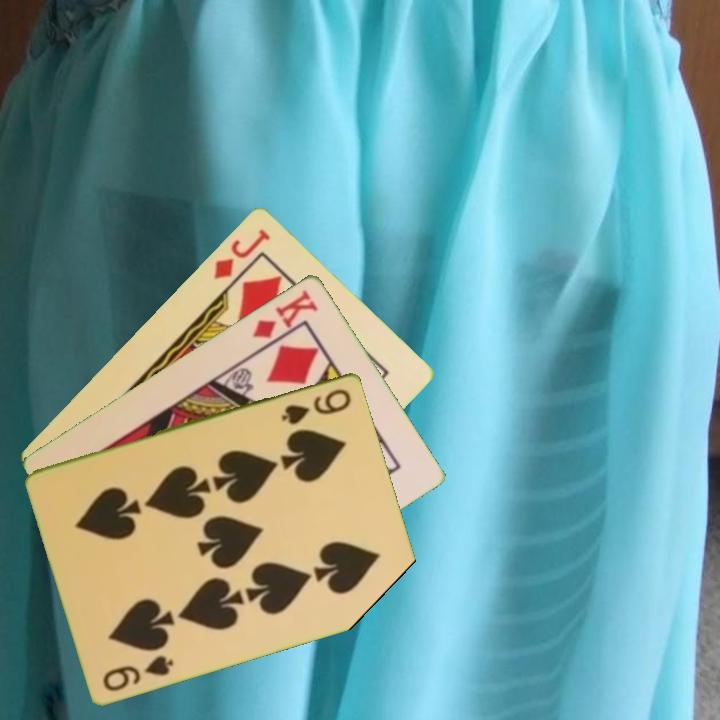9s: (99, 651, 177, 694), (278, 384, 355, 427)
Jd: (210, 224, 273, 282)
Kd: (248, 285, 321, 341)
